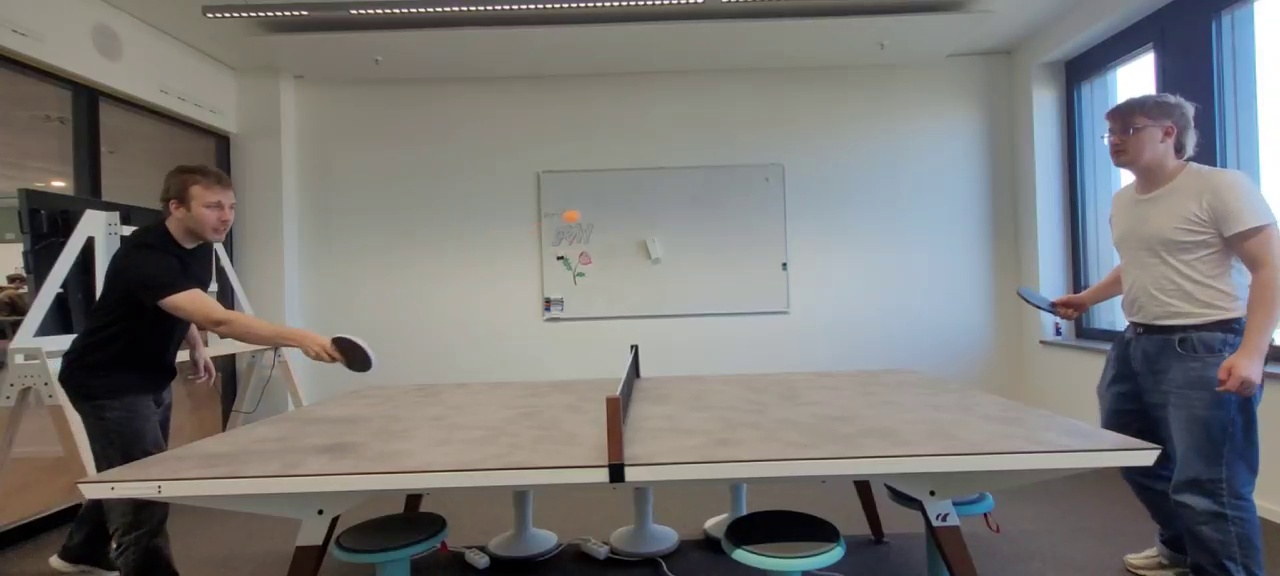plate: (77, 367, 1160, 483)
racket: (330, 334, 375, 372), (1017, 289, 1054, 314)
ttball: (562, 211, 579, 222)
